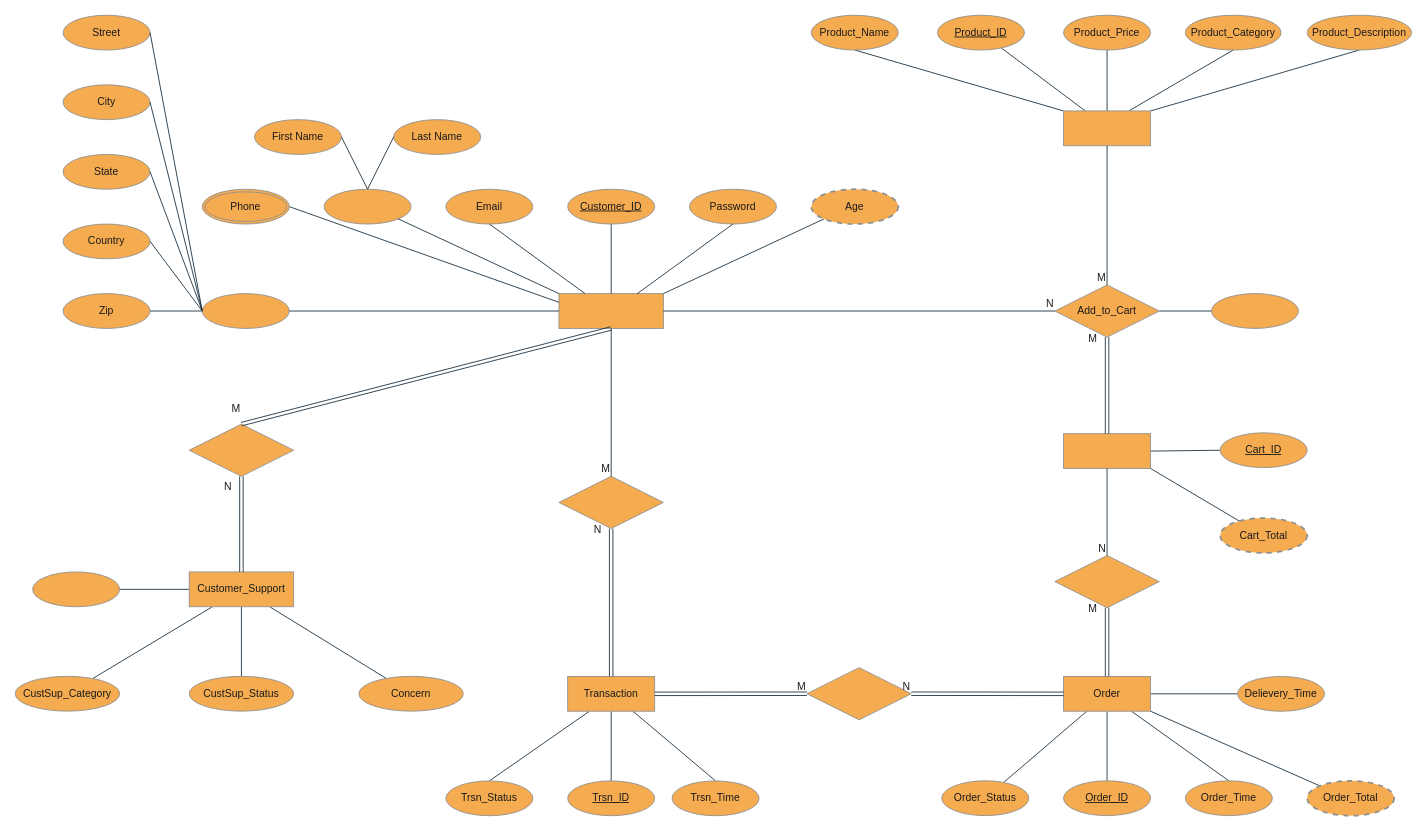
This 1427x832 diagram has some shape labels left out. The centre of each missing label's shape, as x and y in pixels:
"Address" belongs at (x=245, y=310).
"Cart" belongs at (x=1107, y=450).
"Checkout" belongs at (x=1106, y=581).
"Customer" belongs at (x=610, y=310).
"CustSup_ID" belongs at (x=76, y=589).
"For" belongs at (x=858, y=693).
"Name" belongs at (x=367, y=206).
"Payment" belongs at (x=610, y=502).
"Product" belongs at (x=1107, y=128).
"Quantity" belongs at (x=1254, y=310).
"Raise_Ticket" belongs at (x=241, y=449).
